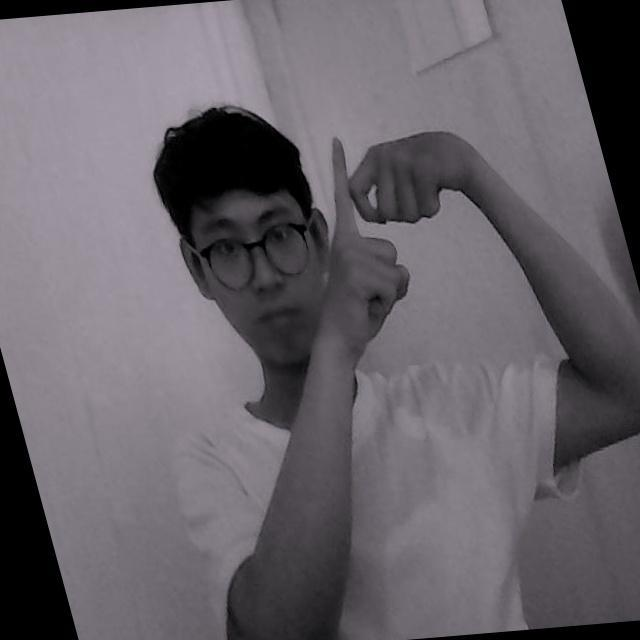K: (308, 124, 442, 320)
